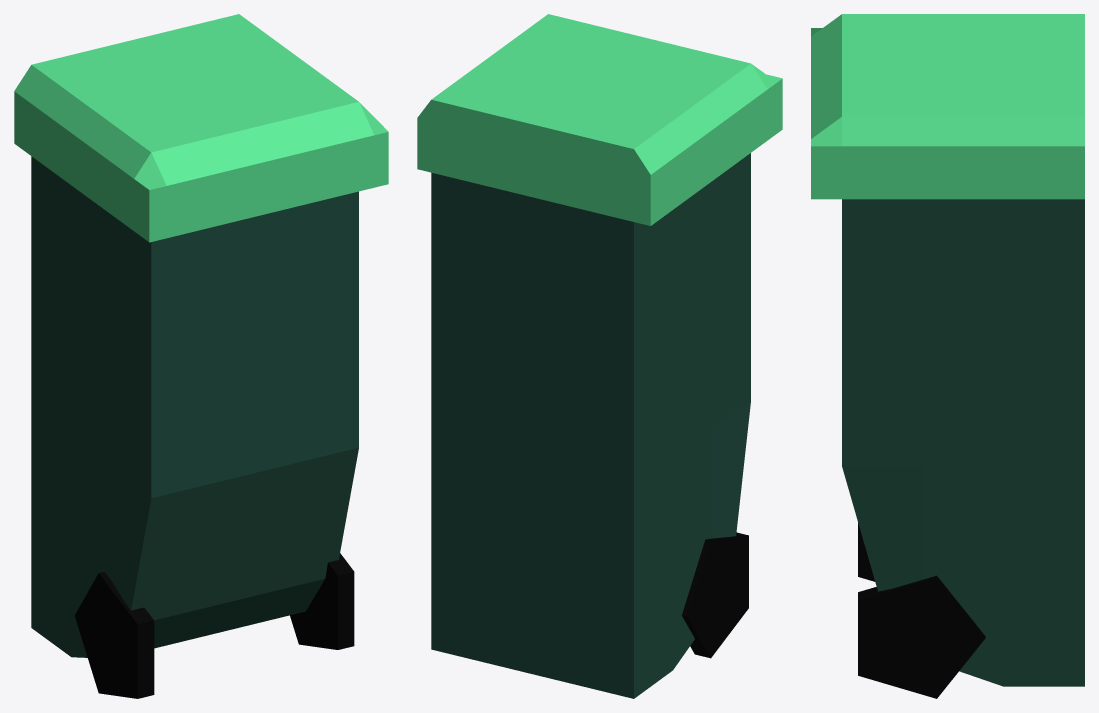
The model's file is garbageBin.fbx.
3 renders of one model, left to right at view 1: azimuth 30°, elevation 25°; view 2: azimuth 150°, elevation 25°; view 3: azimuth 270°, elevation 25°, orthographic. The views are drawn at different scales.
Parts seen in each view (by area): view 1: GarbageBin; view 2: GarbageBin; view 3: GarbageBin.
Part boxes in pixels (left/top/right/bottom): GarbageBin: left=14, top=14, right=388, bottom=698; GarbageBin: left=417, top=14, right=782, bottom=698; GarbageBin: left=811, top=14, right=1084, bottom=698.
Size of the model in its own units: 230 by 528 by 226.
